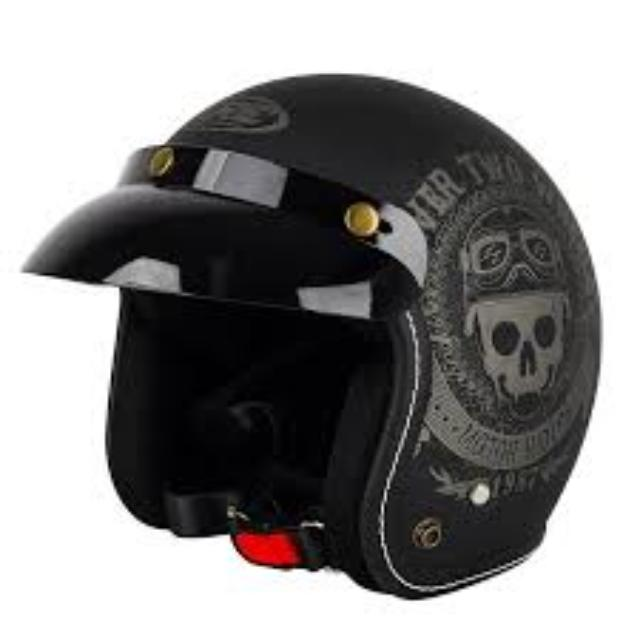motorcycle-helmets: (26, 74, 597, 597)
